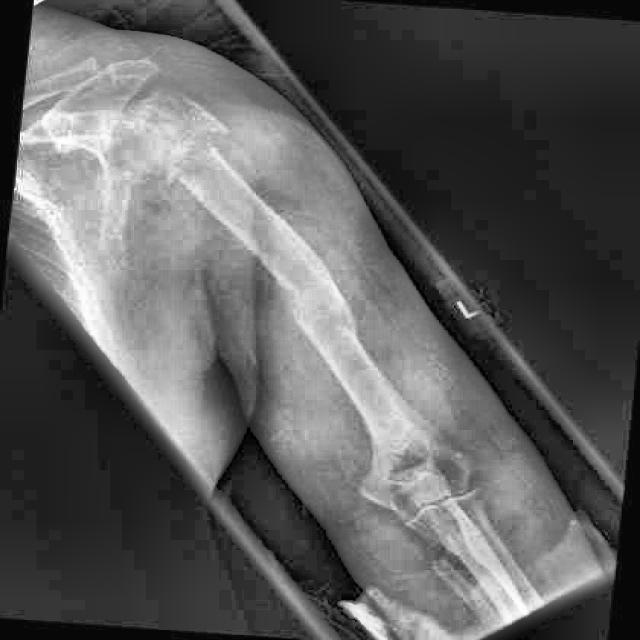humerus: (244, 237, 388, 394), (147, 99, 282, 248)
